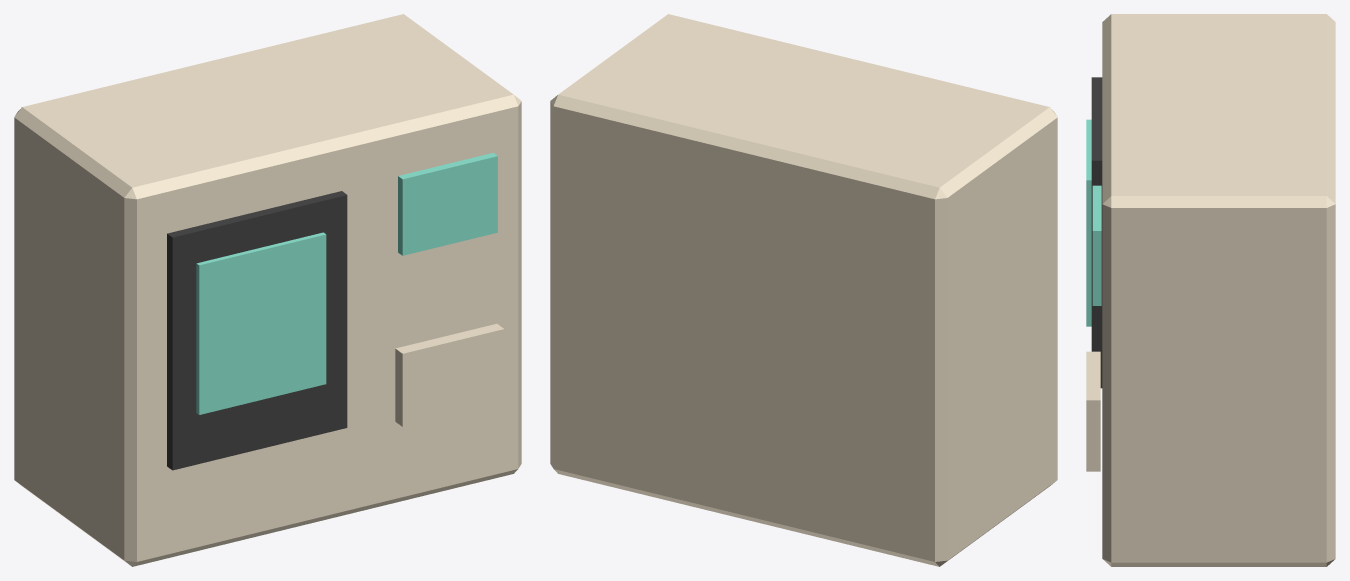
3 renders of one model, left to right at view 1: azimuth 30°, elevation 25°; view 2: azimuth 150°, elevation 25°; view 3: azimuth 270°, elevation 25°, orthographic. The views are drawn at different scales.
Visible parts, largest first — view 1: Analysis cabinet, Sample chamber, Chamber window, Sample drawer, Readout; view 2: Analysis cabinet; view 3: Analysis cabinet, Sample chamber, Sample drawer, Chamber window, Readout.
Boxes of the visible parts, <box> form: Analysis cabinet: <box>14,14,521,566</box>; Sample chamber: <box>167,191,347,470</box>; Chamber window: <box>196,232,326,414</box>; Sample drawer: <box>395,323,504,426</box>; Readout: <box>398,152,497,255</box>; Analysis cabinet: <box>550,14,1057,566</box>; Analysis cabinet: <box>1102,14,1335,566</box>; Sample chamber: <box>1091,77,1102,388</box>; Sample drawer: <box>1086,351,1100,471</box>; Chamber window: <box>1086,119,1091,326</box>; Readout: <box>1092,185,1101,305</box>.
Bounding box in the file's own units: 125 × 114 × 69.5.
